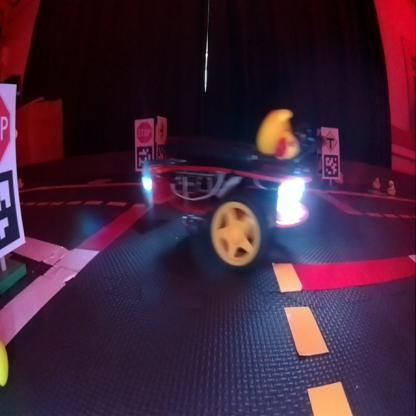Duckie: (255, 106, 295, 158), (387, 181, 394, 193), (372, 178, 379, 188)
Duckiebot: (143, 149, 313, 265)
Intersection sign: (323, 130, 337, 152)
QR code: (0, 170, 20, 250), (136, 144, 152, 168), (324, 152, 338, 176)
Stop sign: (0, 86, 12, 162), (134, 119, 152, 144)
